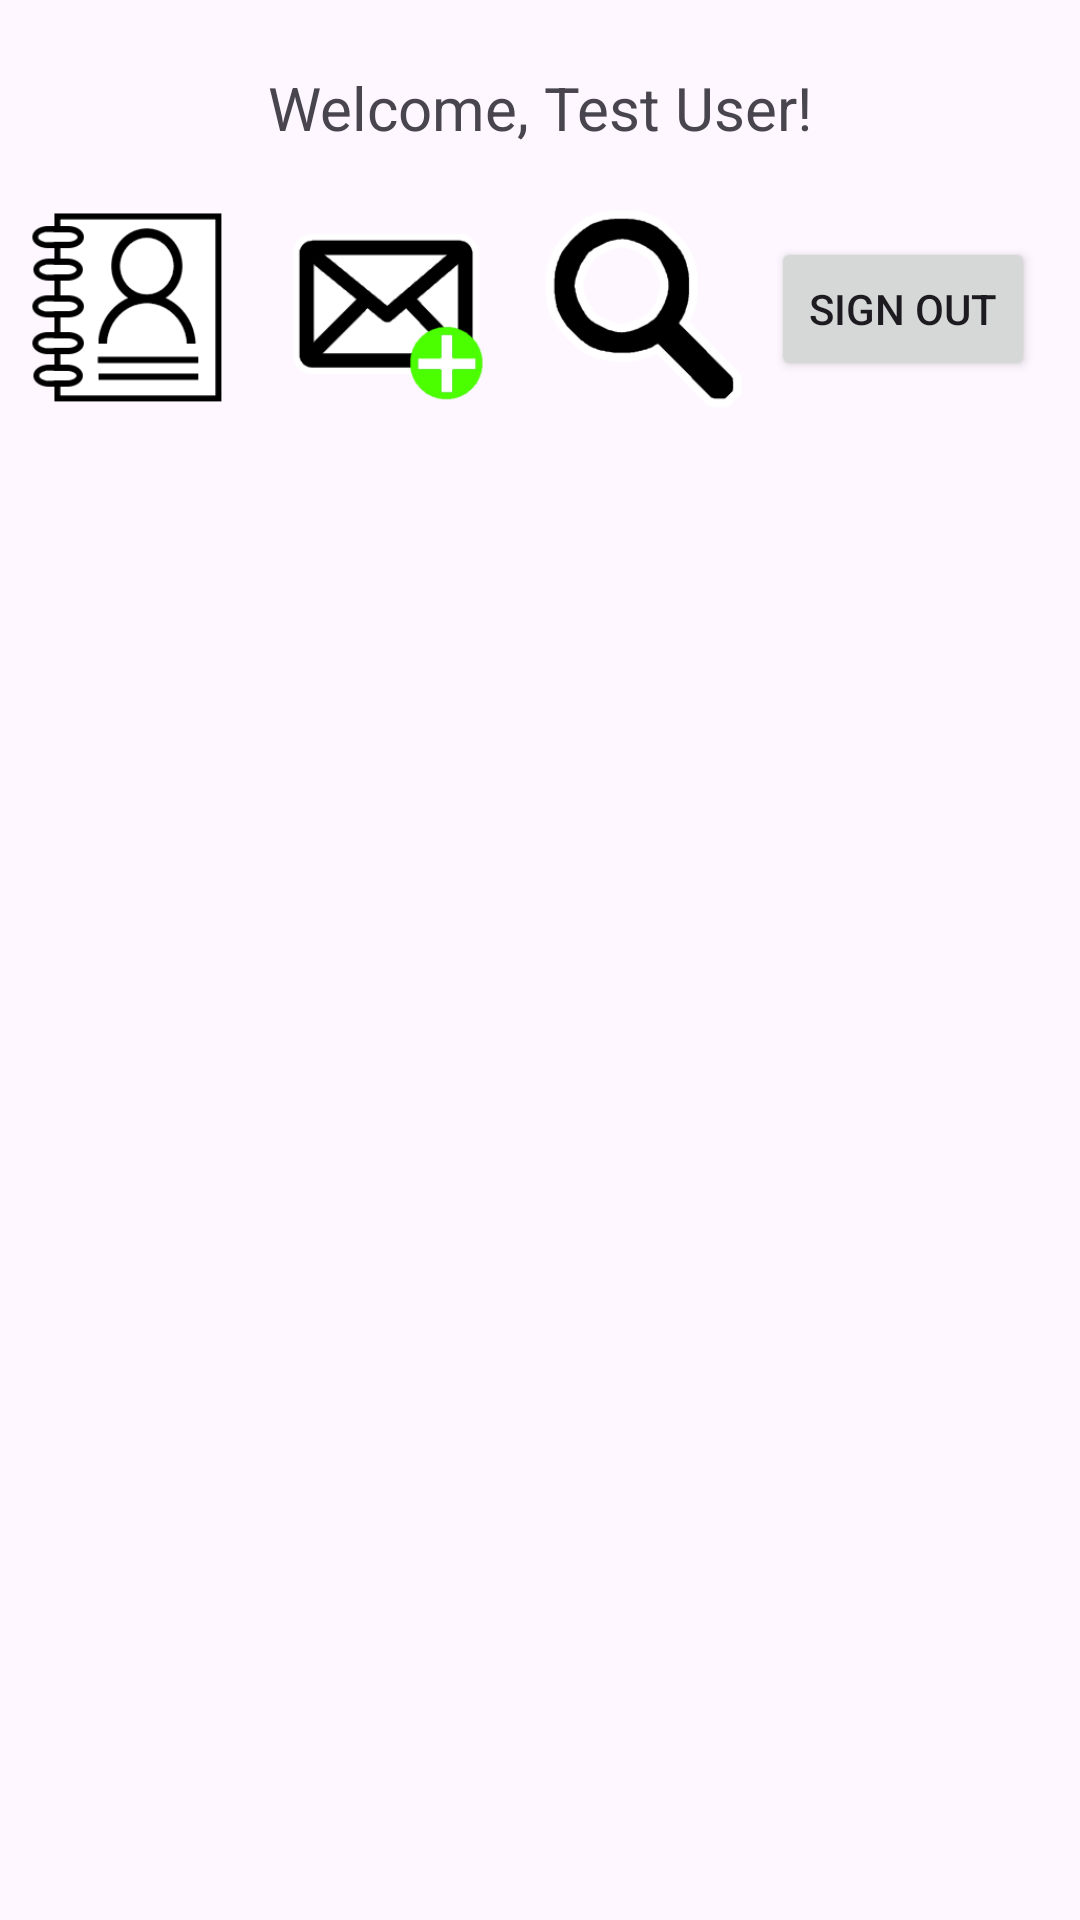

Screen size 1080w x 1920h. Icon name, then its center in pixels as point (x, y):
address: point (127, 307)
message: point (391, 319)
search: point (643, 309)
